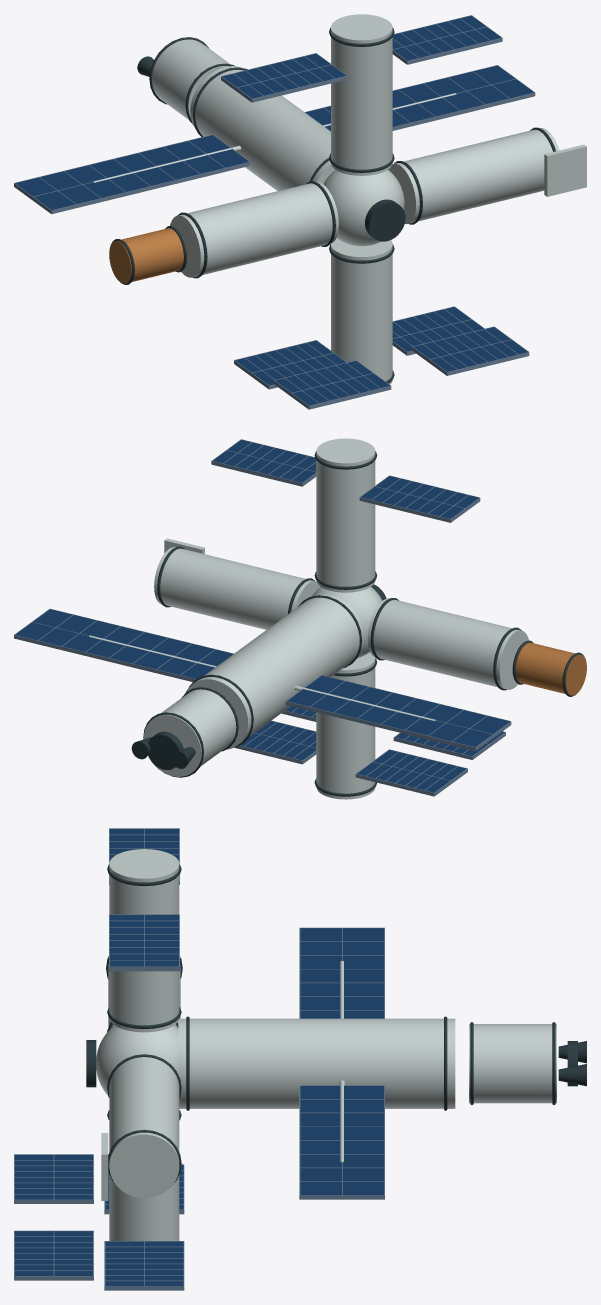
Rendered from mir.glb.
The picture shows the model from 3 angles, top to bottom: view 1: azimuth 30°, elevation 25°; view 2: azimuth 150°, elevation 25°; view 3: azimuth 270°, elevation 25°; orthographic projection. The views are drawn at different scales.
Visible parts, largest first — view 1: core-module-solar-array (×2), Spektr-solar-array (×4), Kristall-module, solar, Mir-core-module, Priroda-module, Kvant-2-module, Spektr-module, Kvant-2-solar-array (×2), Mir-six-port-transfer-node, Kvant-1-module, shuttle-docking-module (+4 smaller); view 2: core-module-solar-array (×2), Mir-core-module, Kristall-module, solar, Kvant-2-module, Priroda-module, Kvant-2-solar-array (×2), Spektr-module, Spektr-solar-array (×3), Kvant-1-module, shuttle-docking-module, instruments (+3 smaller); view 3: Mir-core-module, core-module-solar-array (×2), Spektr-solar-array (×3), solar, Priroda-module, Kvant-2-module, Kvant-1-module, Kvant-2-solar-array (×2), Spektr-module, Mir-six-port-transfer-node, instruments, body.
Part boxes in pixels (<box>): core-module-solar-array (×2): <box>15,65,533,209</box>; Spektr-solar-array (×4): <box>235,307,527,405</box>; Kristall-module: <box>170,182,338,277</box>; solar: <box>14,15,535,409</box>; Mir-core-module: <box>190,66,335,190</box>; Priroda-module: <box>388,128,559,223</box>; Kvant-2-module: <box>331,14,392,175</box>; Spektr-module: <box>331,238,392,384</box>; Kvant-2-solar-array (×2): <box>222,16,501,98</box>; Mir-six-port-transfer-node: <box>323,170,404,246</box>; Kvant-1-module: <box>152,39,230,120</box>; shuttle-docking-module: <box>109,228,187,283</box>; core-module-solar-array (×2): <box>15,609,509,747</box>; Mir-core-module: <box>185,594,364,749</box>; Kristall-module: <box>367,598,528,689</box>; solar: <box>14,439,511,796</box>; Kvant-2-module: <box>316,438,375,592</box>; Priroda-module: <box>154,547,320,629</box>; Kvant-2-solar-array (×2): <box>213,440,478,518</box>; Spektr-module: <box>316,652,375,799</box>; Spektr-solar-array (×3): <box>240,721,504,792</box>; Kvant-1-module: <box>143,689,236,776</box>; shuttle-docking-module: <box>512,642,586,695</box>; instruments: <box>157,451,521,796</box>; Mir-core-module: <box>178,1018,455,1108</box>; core-module-solar-array (×2): <box>300,928,384,1195</box>; Spektr-solar-array (×3): <box>14,1154,183,1286</box>; solar: <box>14,828,384,1290</box>; Priroda-module: <box>109,1053,179,1197</box>; Kvant-2-module: <box>109,849,179,1032</box>; Kvant-1-module: <box>469,1024,556,1103</box>; Kvant-2-solar-array (×2): <box>109,829,178,966</box>; Spektr-module: <box>109,1175,179,1240</box>; Mir-six-port-transfer-node: <box>96,1025,178,1095</box>; instruments: <box>106,864,182,1186</box>; body: <box>186,1016,555,1110</box>.
Size of the model in its own units: 5.61 by 3.9 by 5.07.
